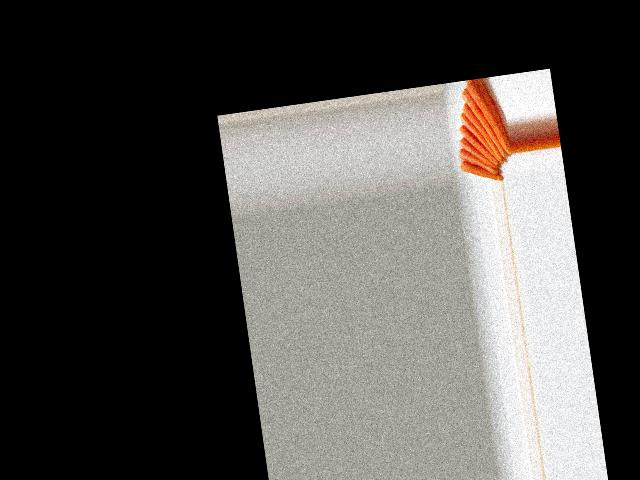carrot: (467, 80, 510, 157)
